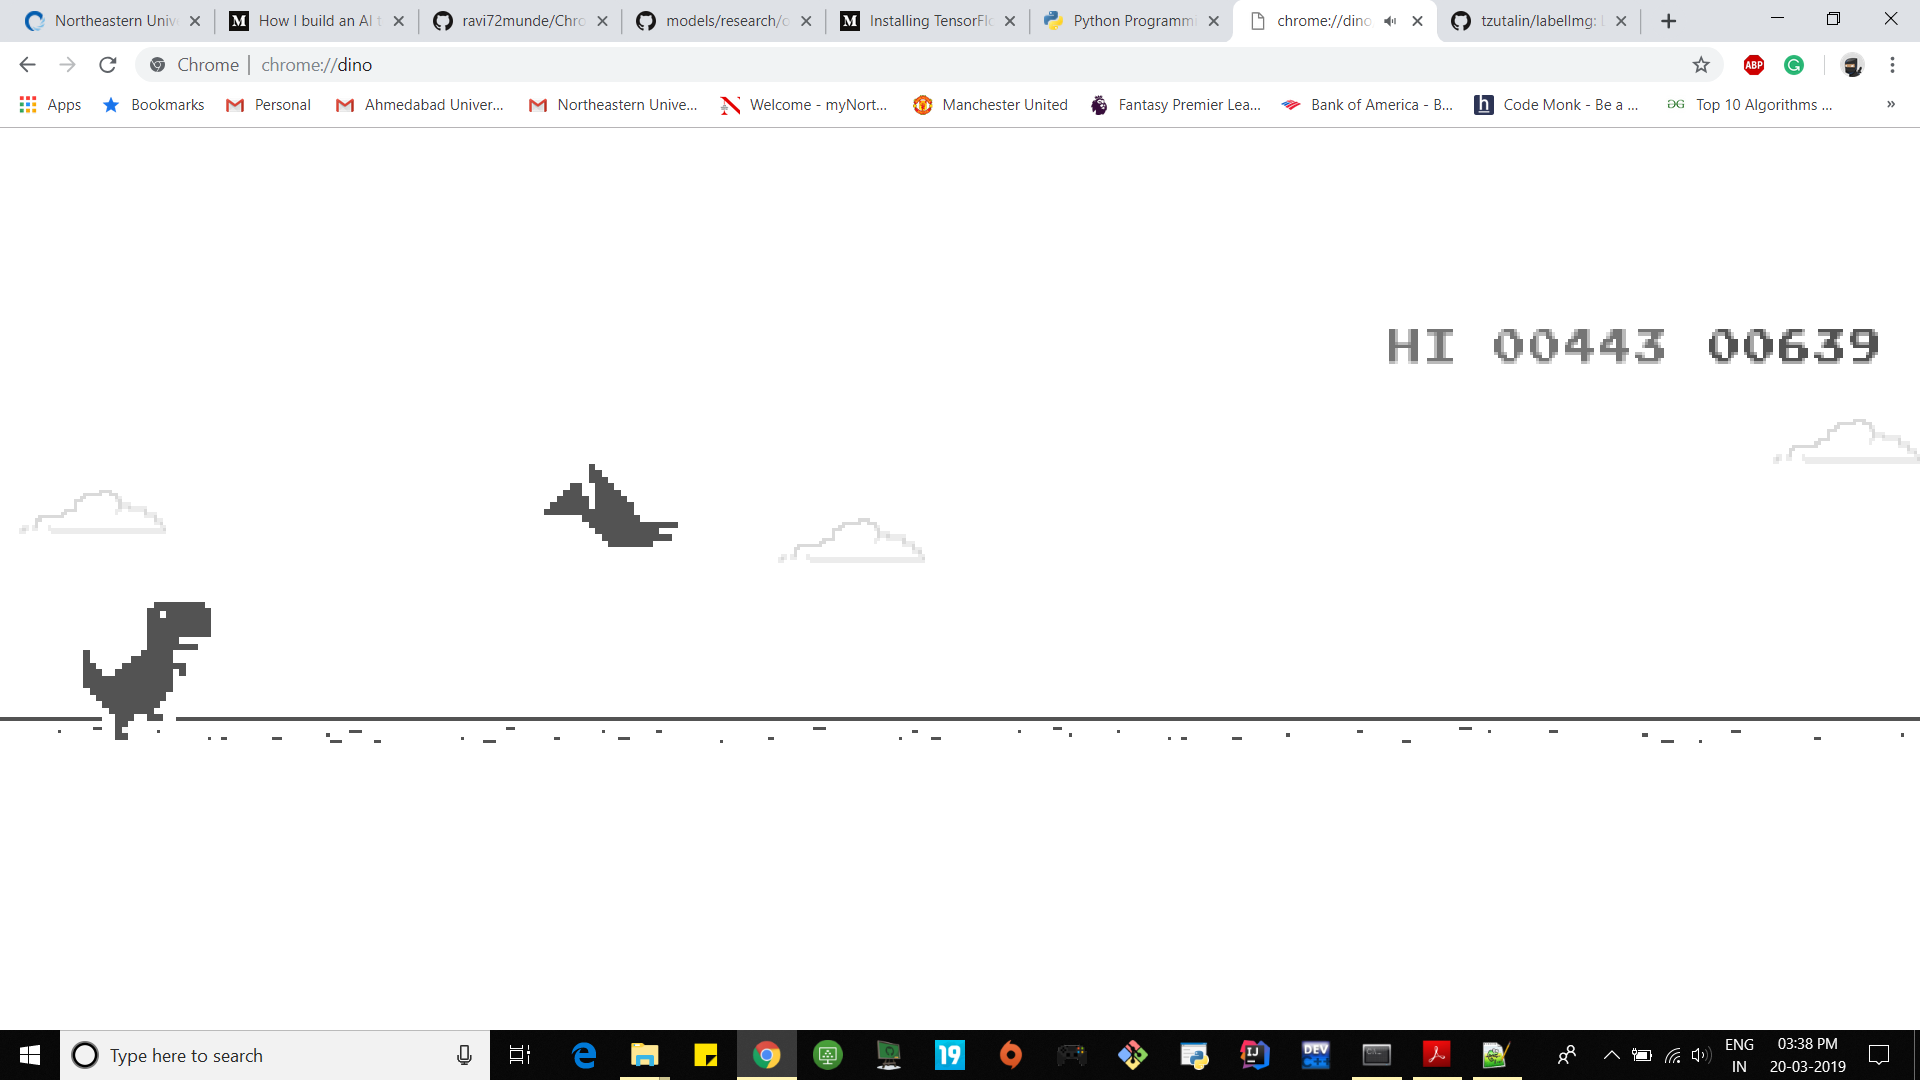bird: (545, 465, 675, 545)
dino: (74, 599, 214, 741)
